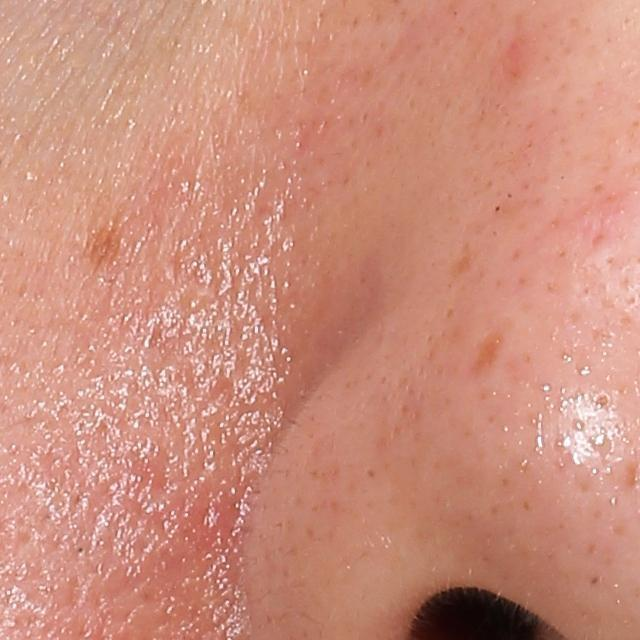melasma: (80, 216, 121, 269), (473, 329, 505, 372)
